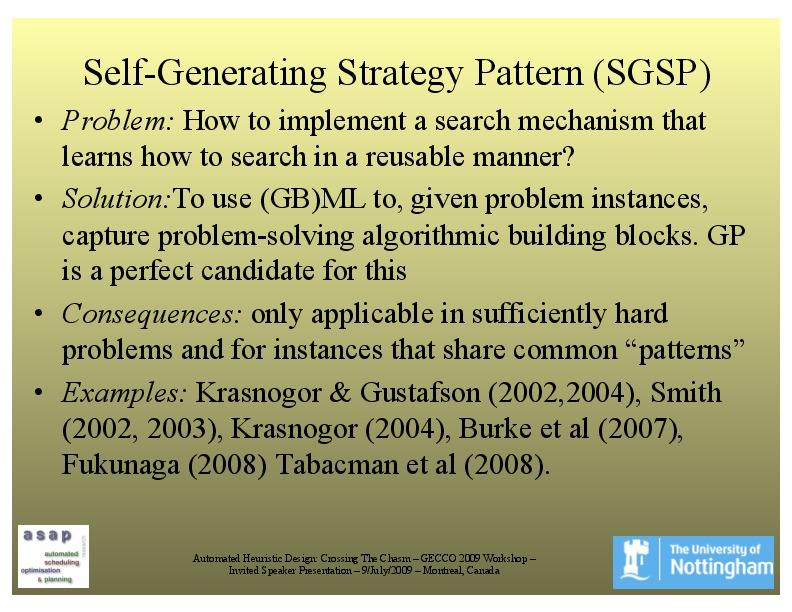paragraph: (18, 103, 771, 499)
title: (71, 42, 719, 99)
